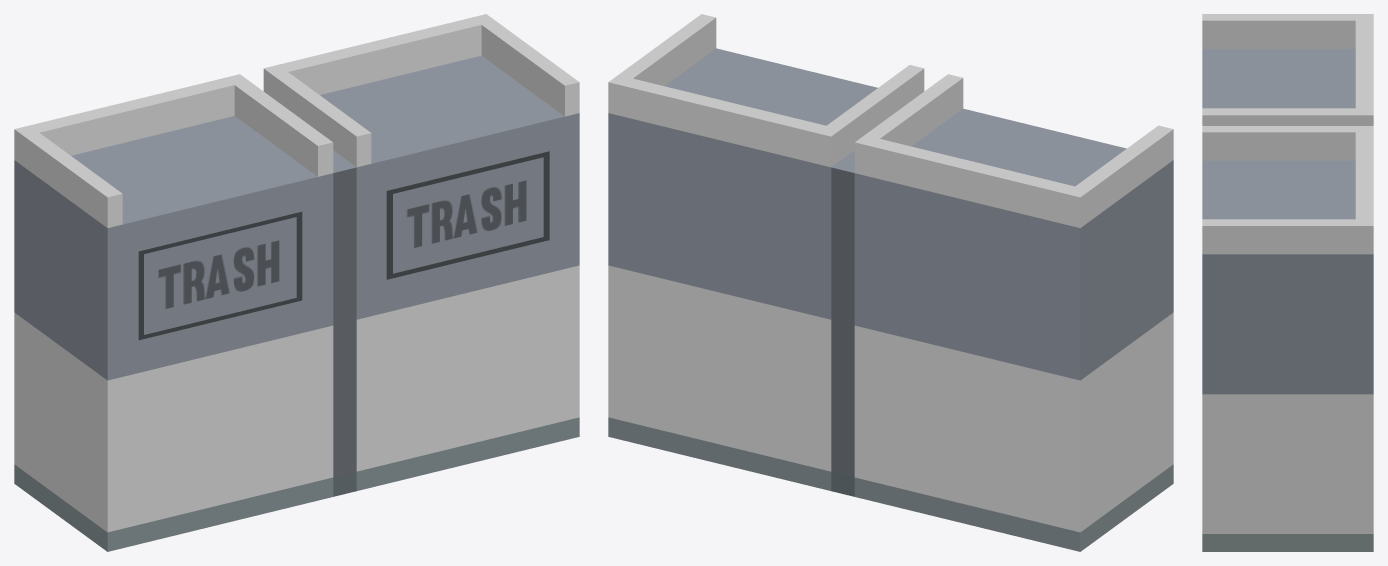
Rendered from TrashBins.glb.
3 views of the same model, side by side, from view 1: azimuth 30°, elevation 25°; view 2: azimuth 150°, elevation 25°; view 3: azimuth 270°, elevation 25° (orthographic). The views are drawn at different scales.
Visible parts, largest first — view 1: SI_Prop_TrashBins_01; view 2: SI_Prop_TrashBins_01; view 3: SI_Prop_TrashBins_01.
Part boxes in pixels (x1,y1,x2,y2): SI_Prop_TrashBins_01: (14,14,579,551); SI_Prop_TrashBins_01: (608,14,1173,551); SI_Prop_TrashBins_01: (1202,14,1373,551).
Bounding box in the file's own units: 0.0312 × 0.0224 × 0.0107.
1 material, 1 textured.
